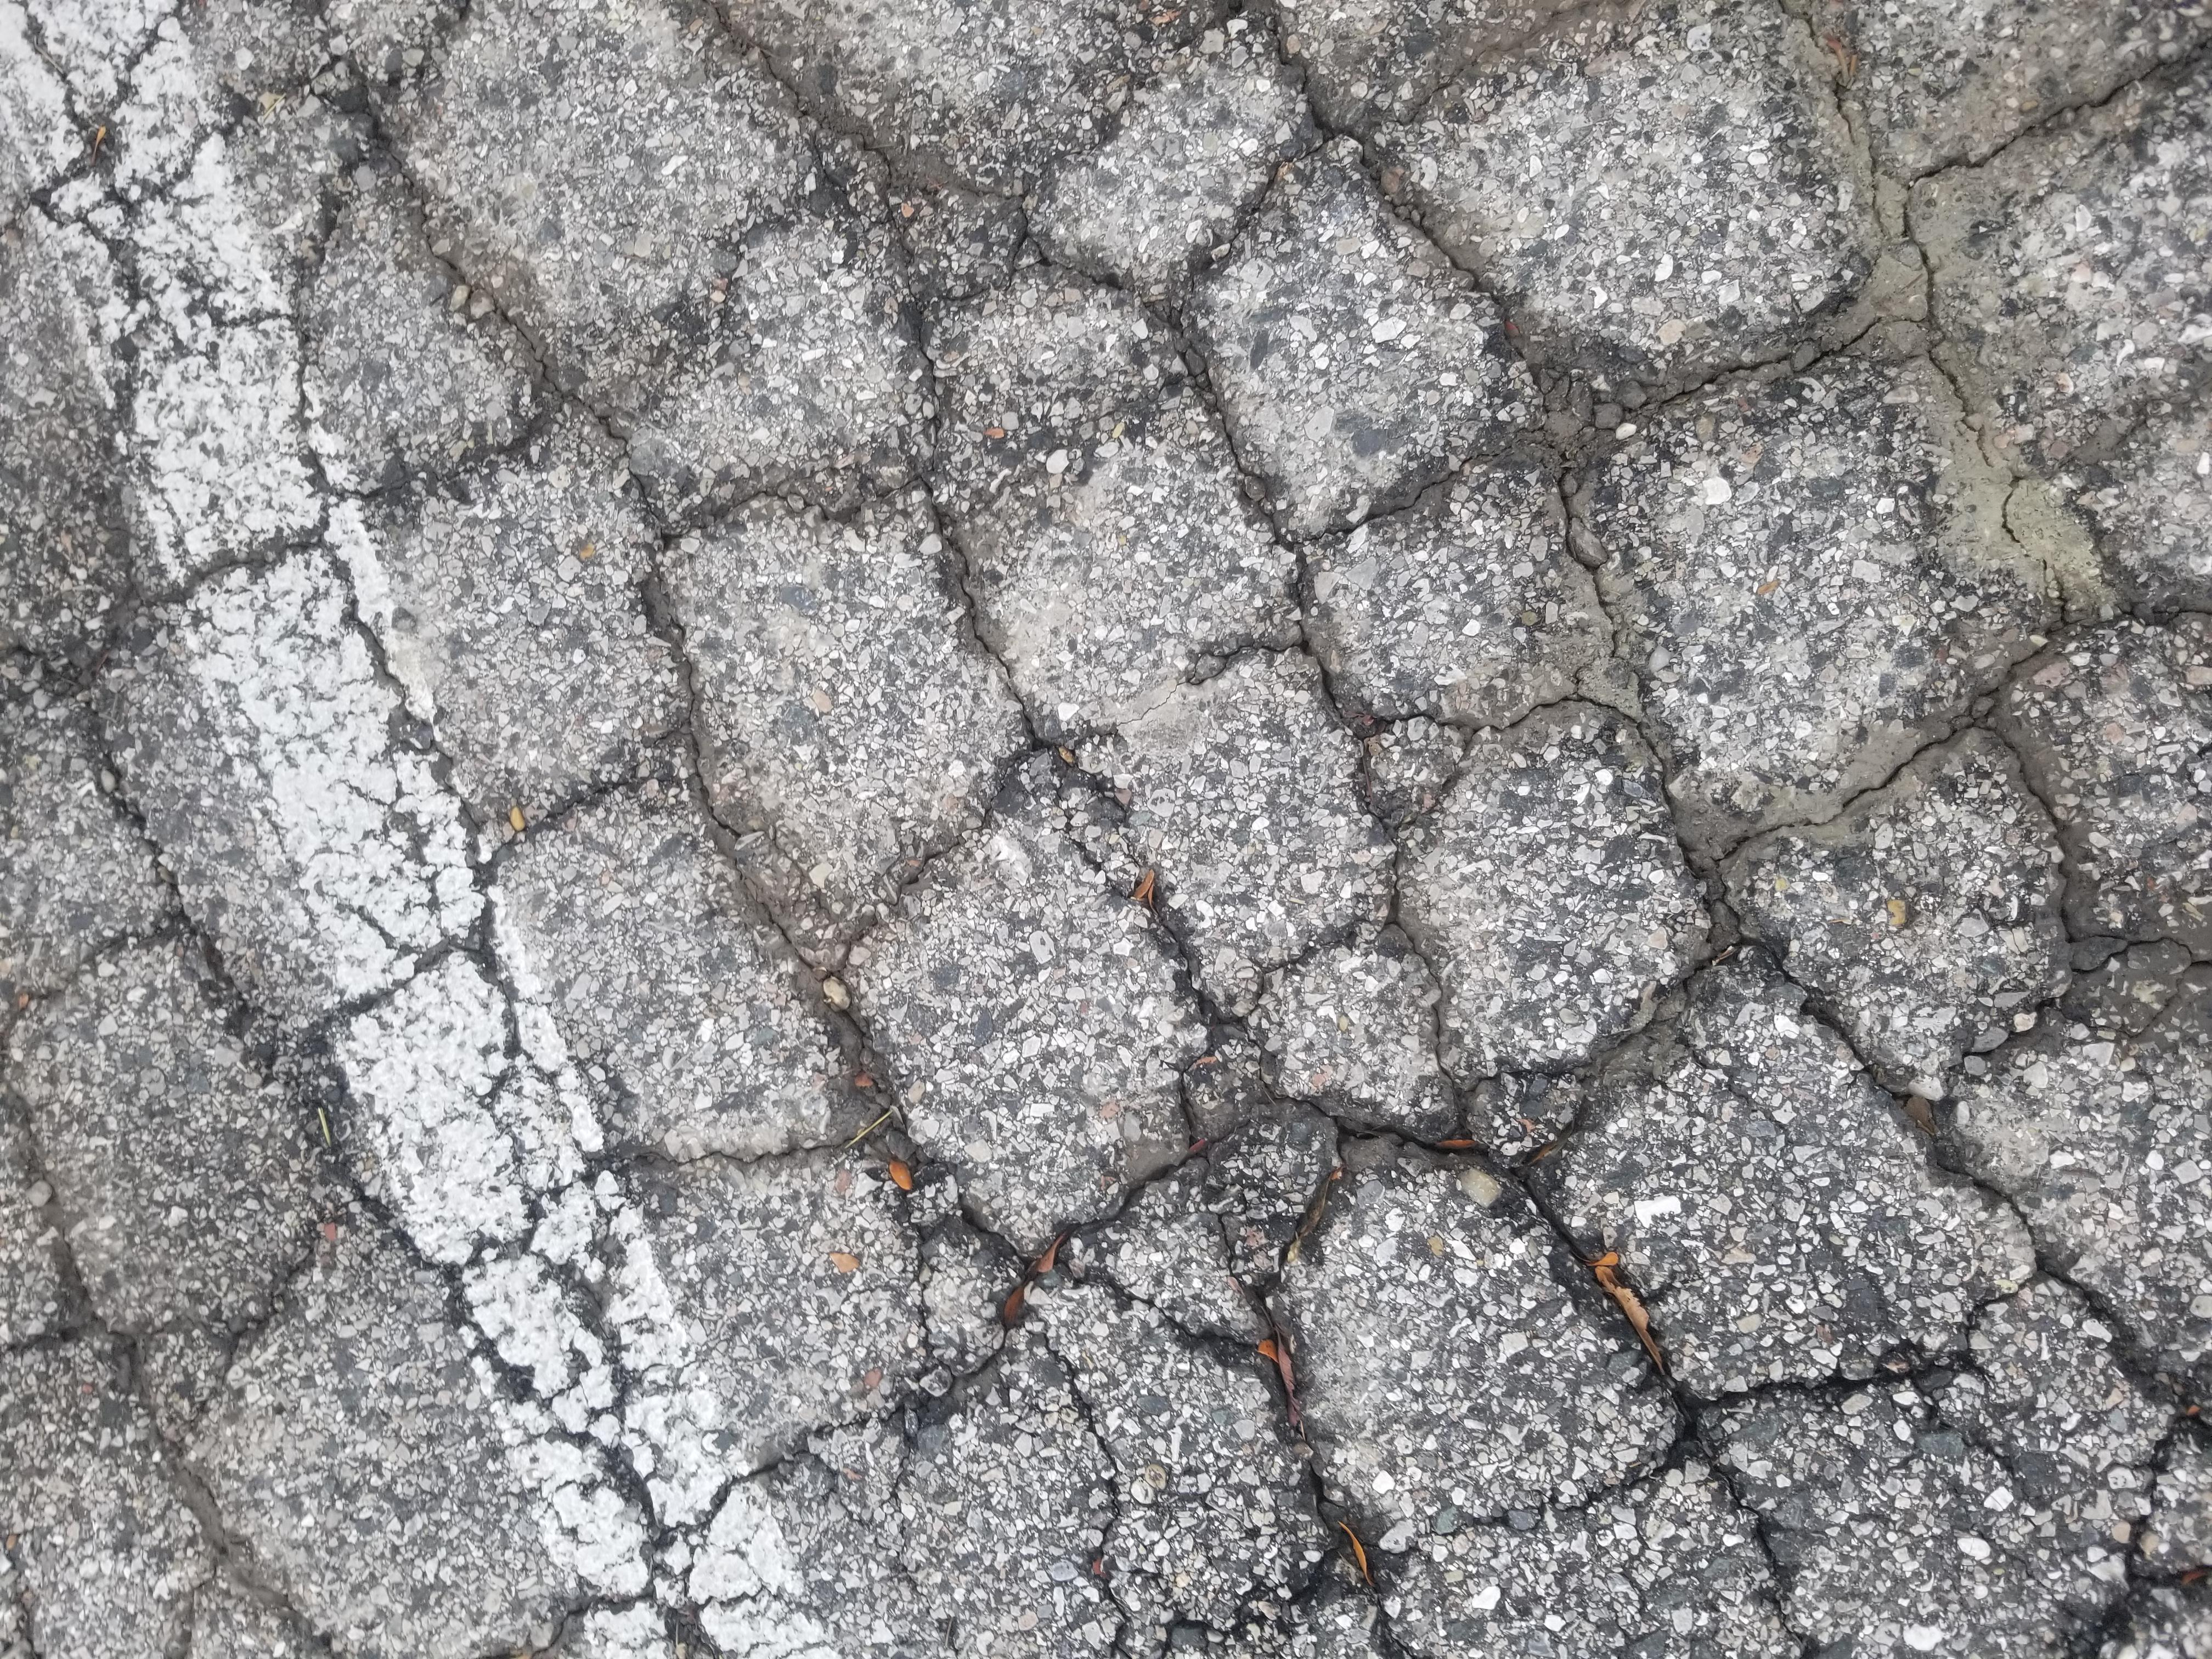alligator-crack: (7, 16, 2212, 1649)
